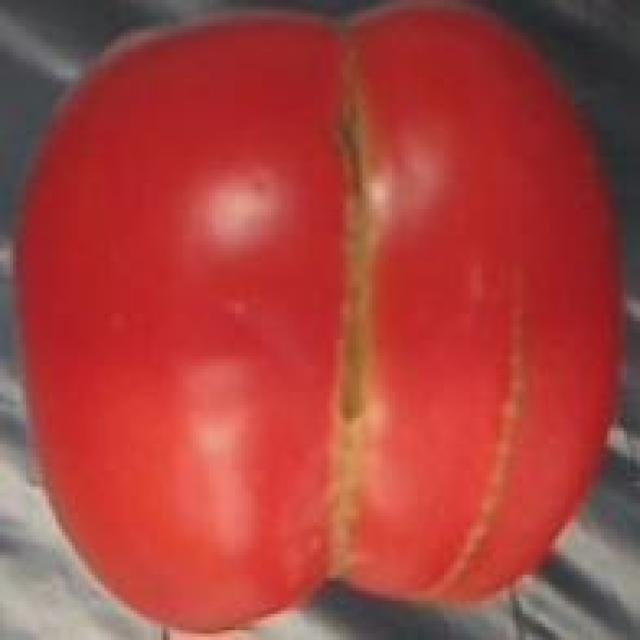overripe tomato: (17, 0, 630, 640)
